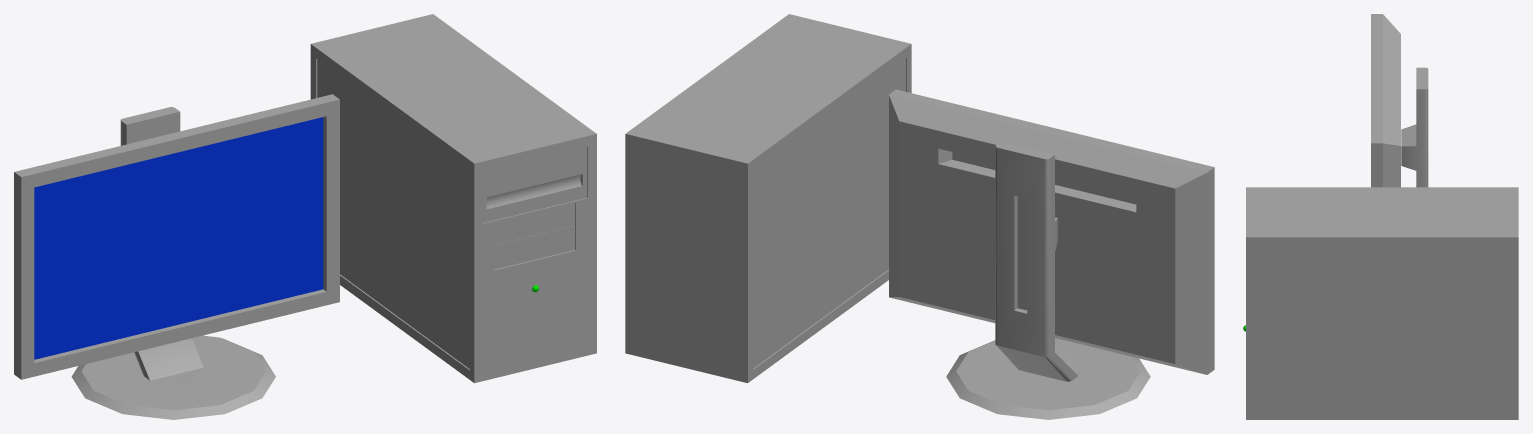
File: computer.fbx
3 views of the same model, side by side, from view 1: azimuth 30°, elevation 25°; view 2: azimuth 150°, elevation 25°; view 3: azimuth 270°, elevation 25° (orthographic). The views are drawn at different scales.
Visible parts, largest first — view 1: monitor, desktop; view 2: monitor, desktop; view 3: desktop, monitor.
Part boxes in pixels (x1,y1,x2,y2): monitor: (14,94,339,419); desktop: (310,14,596,383); monitor: (889,89,1214,419); desktop: (625,14,911,383); desktop: (1243,187,1518,419); monitor: (1371,14,1428,187).
Bounding box in the file's own units: 144 × 67.14 × 82.61.
